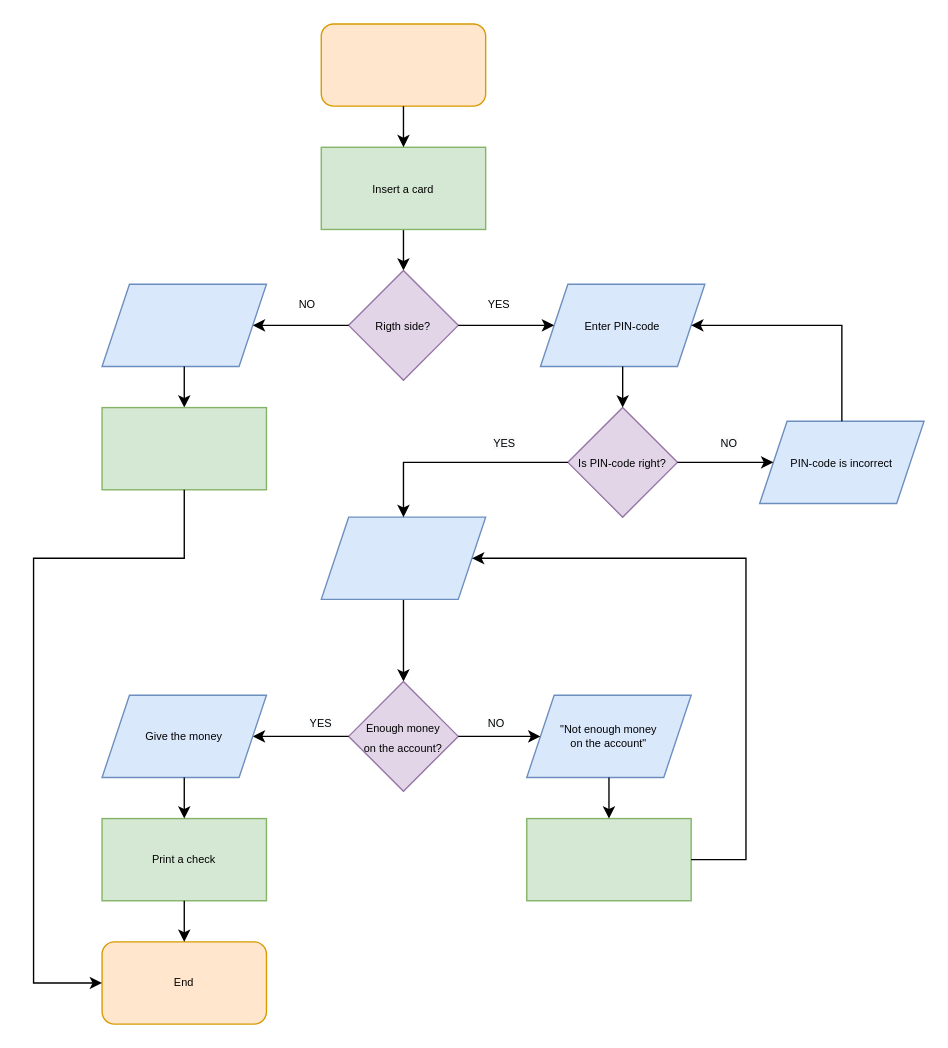
Image size: 948x1048. Some labels were removed from this diagram. The shapes that lost their labels are listed below. From the top down, each one's centre as x and y in pixels, then its label:
At pixel 403 64: "Start".
At pixel 183 324: "The card is inserted not right".
At pixel 183 448: "Return the card".
At pixel 403 557: "Enter the sum you want to cash in".
At pixel 608 859: "Show the balance".
